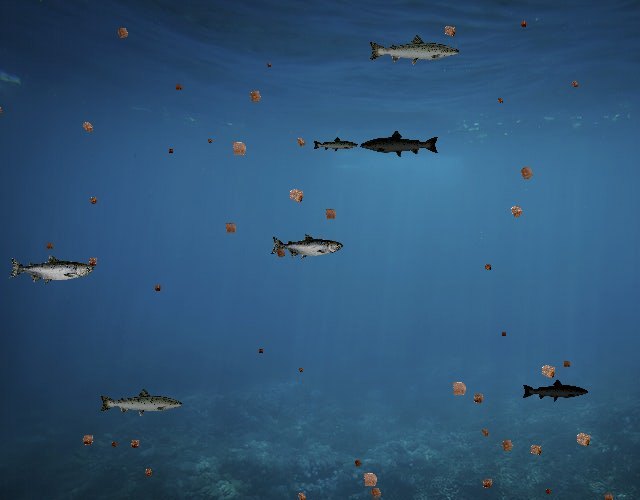Fish: (367, 33, 461, 67), (98, 387, 184, 418), (8, 254, 94, 285), (359, 129, 440, 159), (270, 234, 343, 260), (522, 378, 590, 402), (312, 137, 359, 154)
Pellet: (514, 160, 540, 186), (504, 199, 529, 224), (76, 116, 98, 138), (516, 17, 530, 32), (480, 260, 494, 274), (542, 486, 555, 499), (204, 136, 214, 146)
